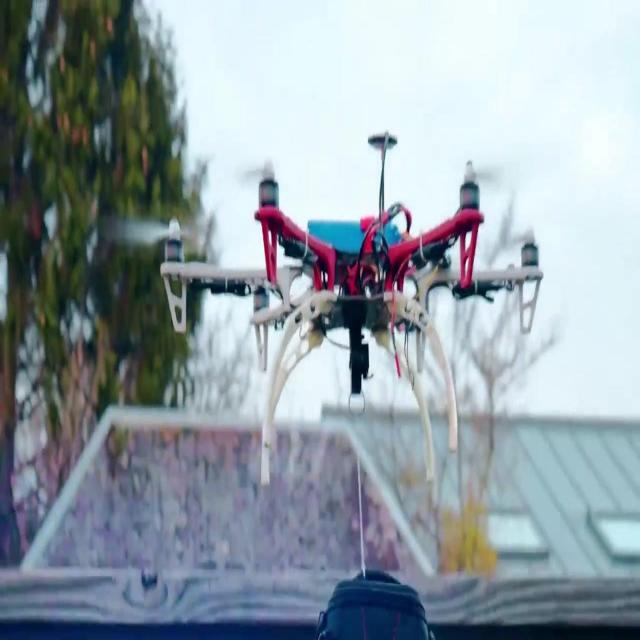UAV: (114, 130, 544, 488)
